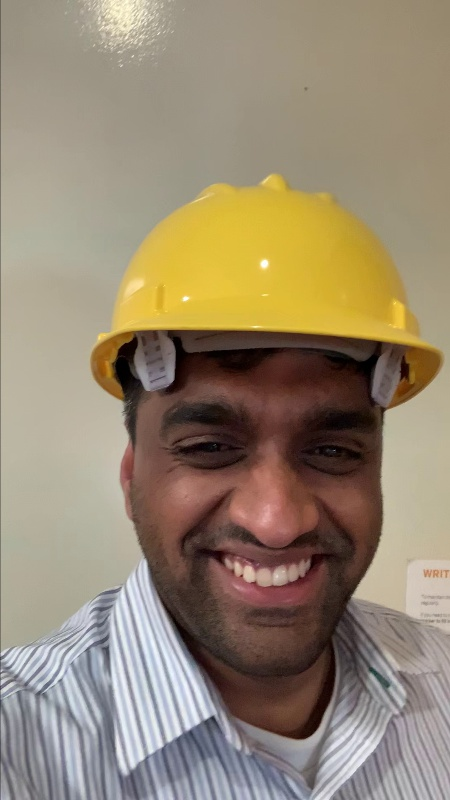helmet: (91, 169, 435, 352)
